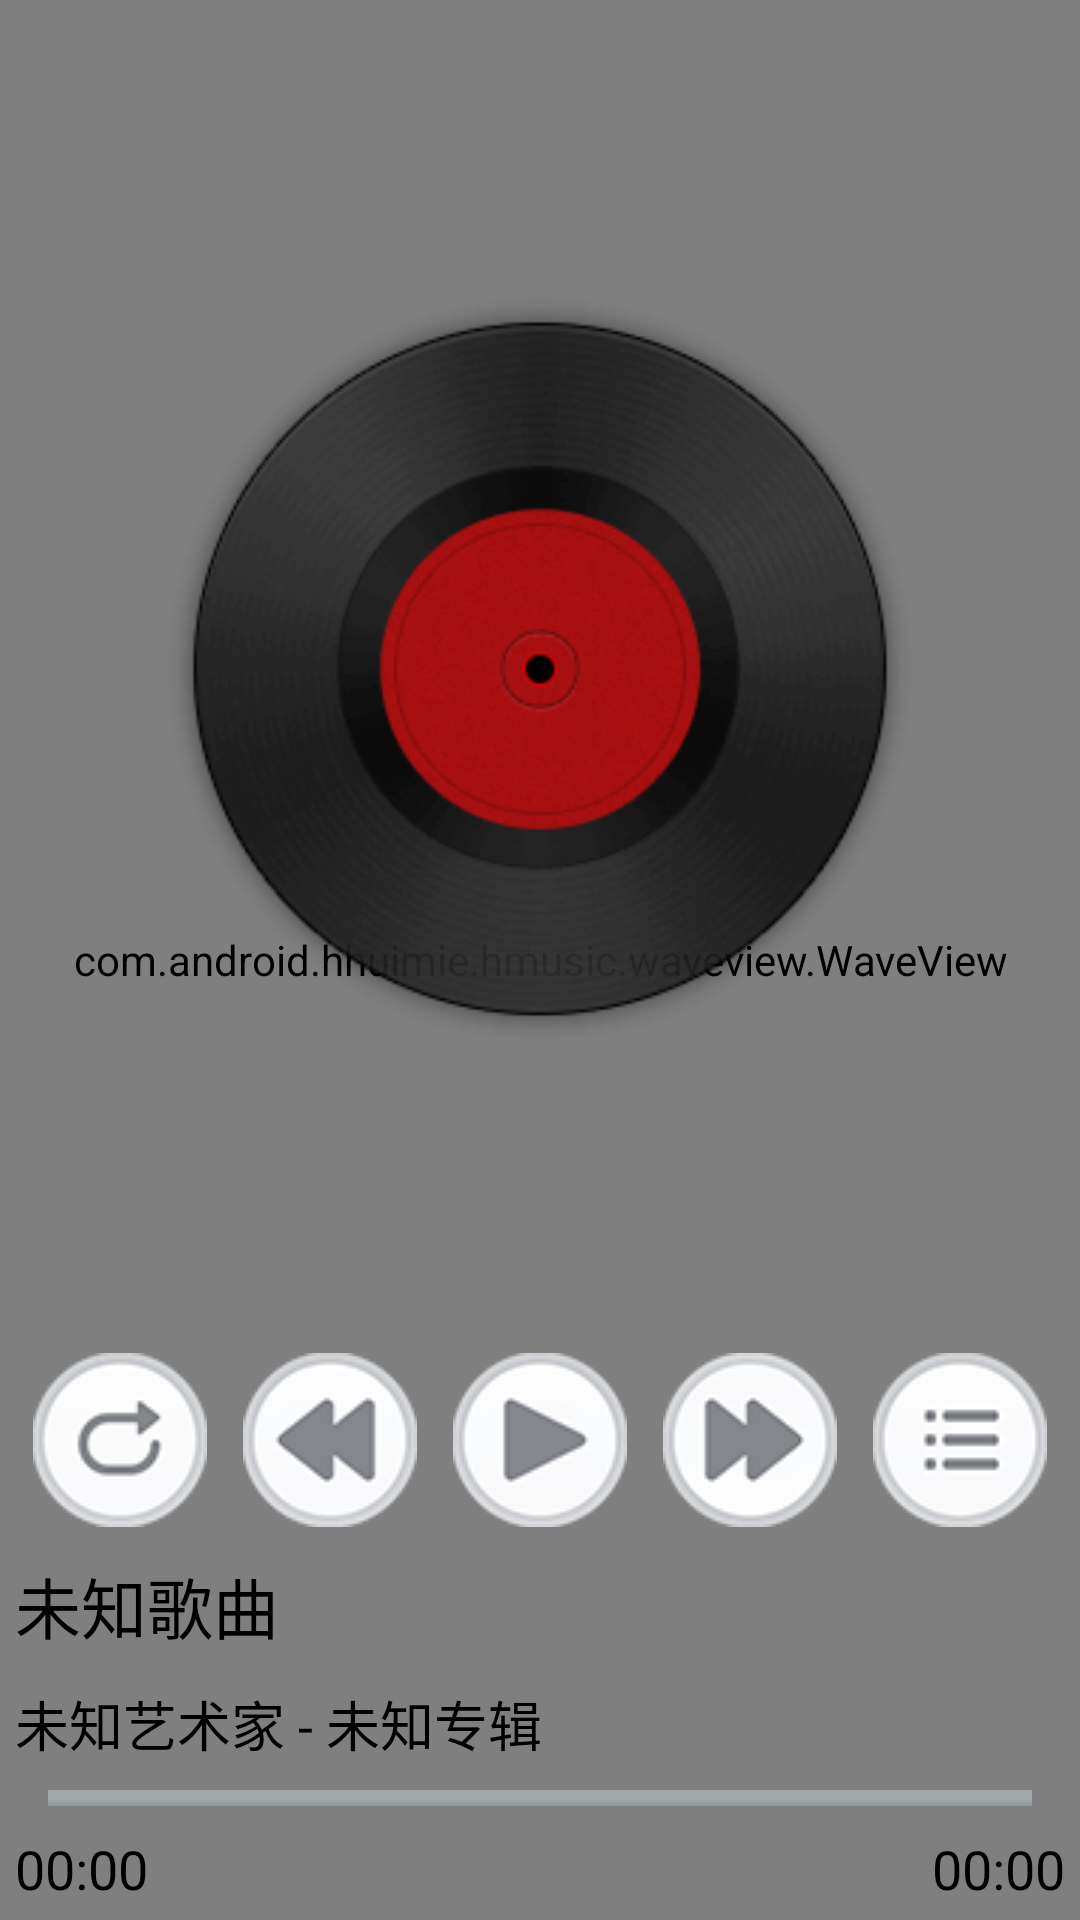

Named icons in this screenshot (1080×1920) and their centers, point (x, y):
play list: point (960, 1440)
play loop: point (120, 1440)
play next: point (750, 1440)
play pause: point (540, 1440)
play previous: point (330, 1440)
